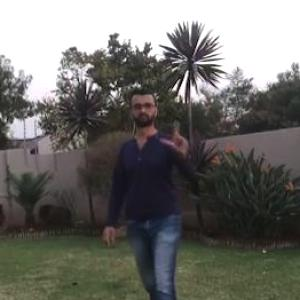land_hand: (156, 114, 195, 160)
